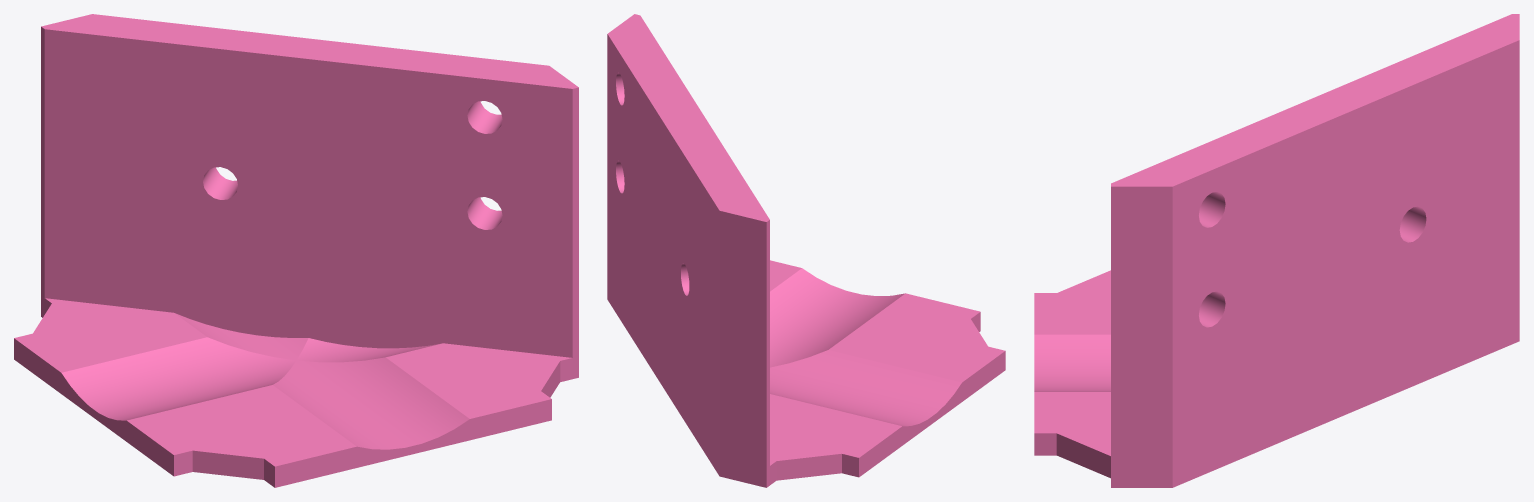
Rendered from Cube 1x1 V5_Mirror Base Horizontal.obj.
3 renders of one model, left to right at view 1: azimuth 30°, elevation 25°; view 2: azimuth 150°, elevation 25°; view 3: azimuth 270°, elevation 25°, orthographic. The views are drawn at different scales.
Parts seen in each view (by area): view 1: Solid1:26; view 2: Solid1:26; view 3: Solid1:26.
Part boxes in pixels (left/top/right/bottom): Solid1:26: left=14, top=14, right=578, bottom=487; Solid1:26: left=607, top=14, right=1005, bottom=487; Solid1:26: left=1034, top=14, right=1519, bottom=487.
Bounding box in the file's own units: 49.65 × 34 × 49.65.
